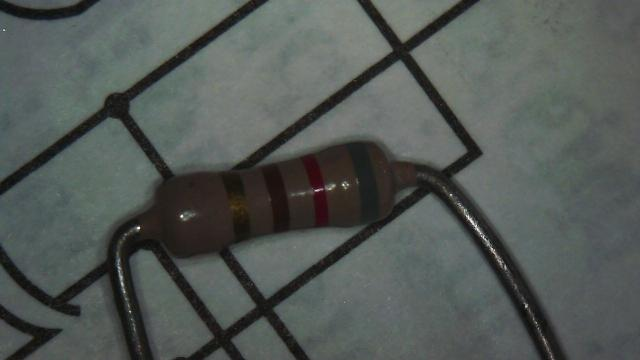brown: (262, 164, 290, 232)
gold: (222, 172, 250, 241)
grey: (346, 142, 380, 224)
red: (302, 154, 330, 226)
resistor: (120, 111, 417, 289)
